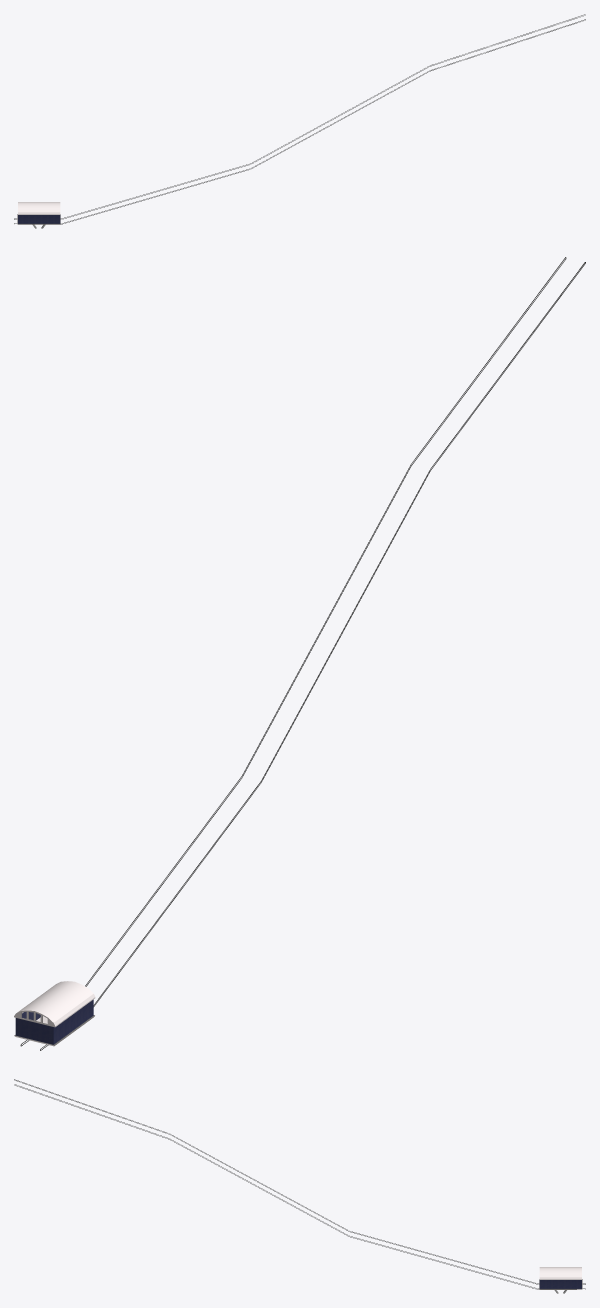
The model's file is ski_lift_base.glb.
3 views of the same model, one above another, from view 1: azimuth 90°, elevation 25°; view 2: azimuth 150°, elevation 25°; view 3: azimuth 270°, elevation 25° (orthographic). The views are drawn at different scales.
Visible parts, largest first — view 1: pCube41; view 2: pCube41; view 3: pCube41.
Boxes of the visible parts, x1,y1,x2,y2 form: pCube41: [14, 14, 585, 228]; pCube41: [14, 257, 585, 1050]; pCube41: [14, 1079, 585, 1293].
Bounding box in the file's own units: 1603 × 14934 × 36637.
Materials: 2 (1 with a texture image).
